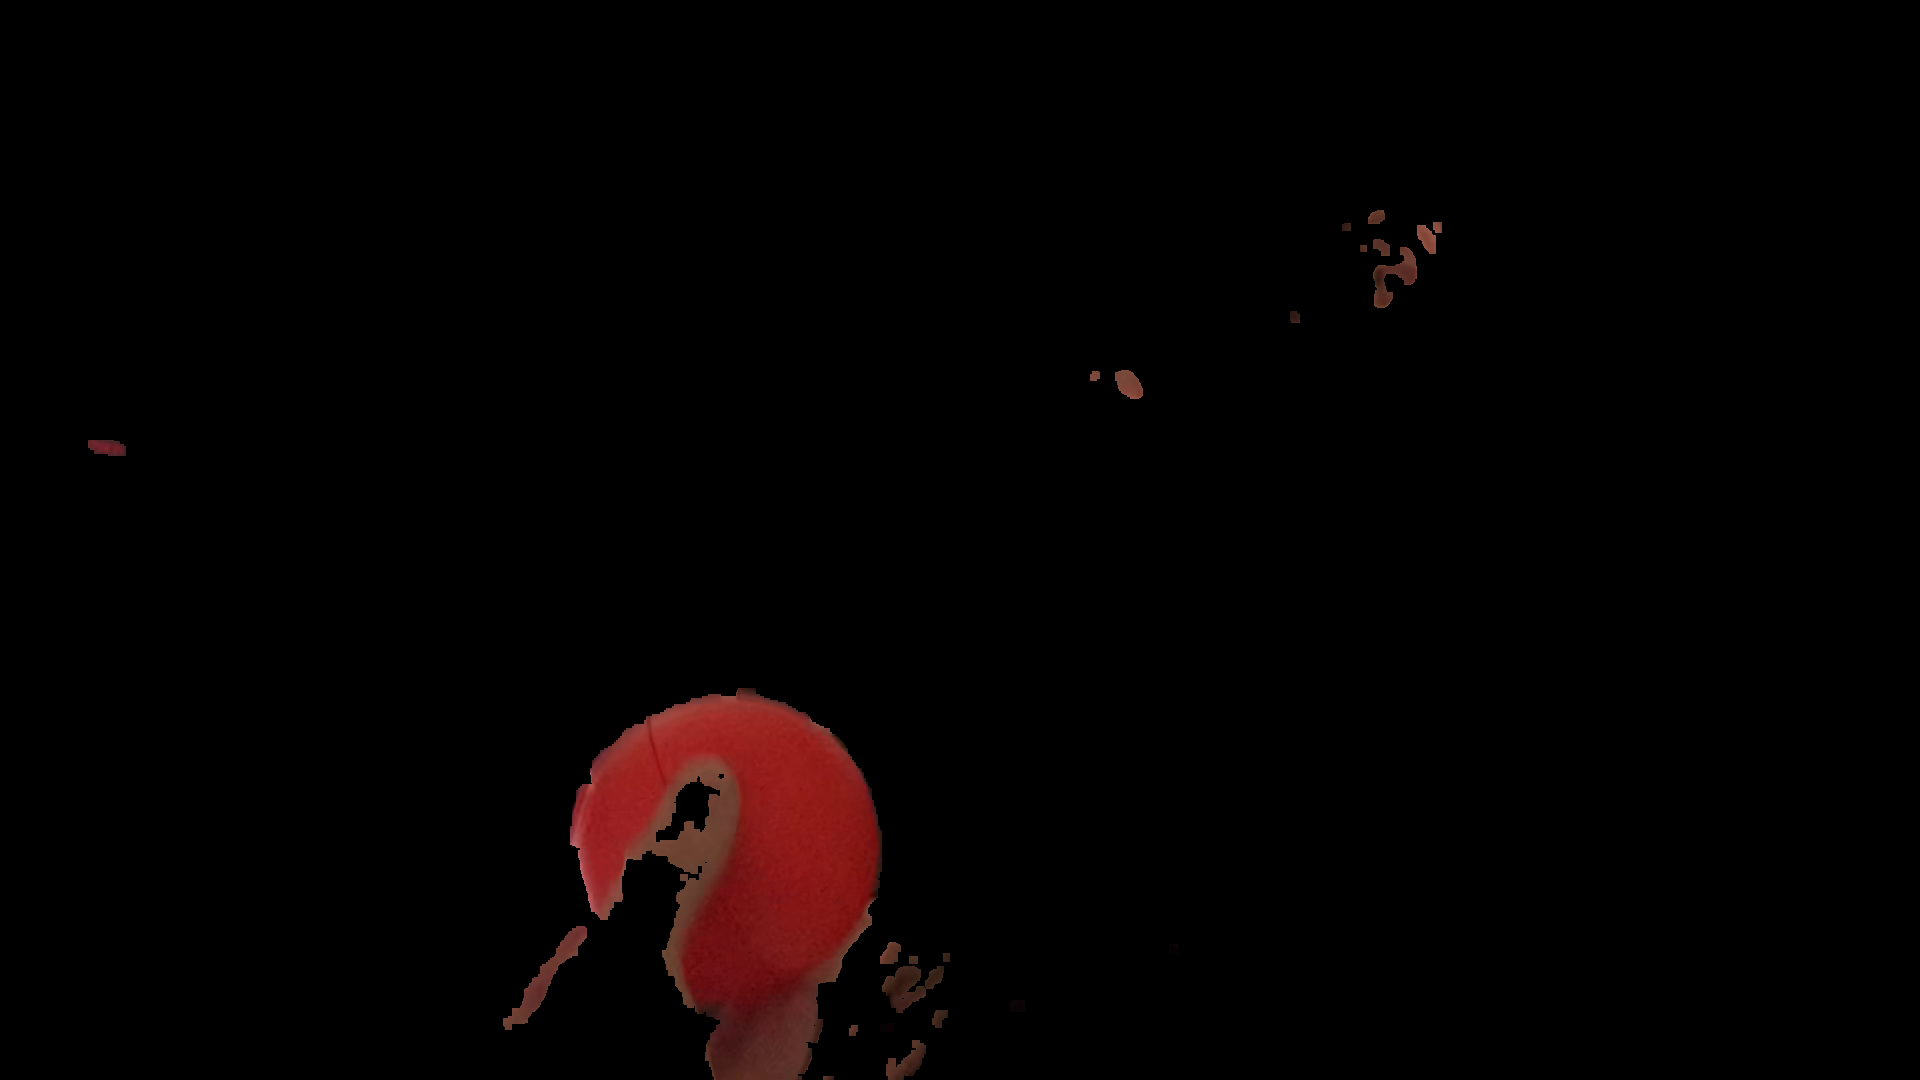Ball: (578, 694, 881, 1007)
